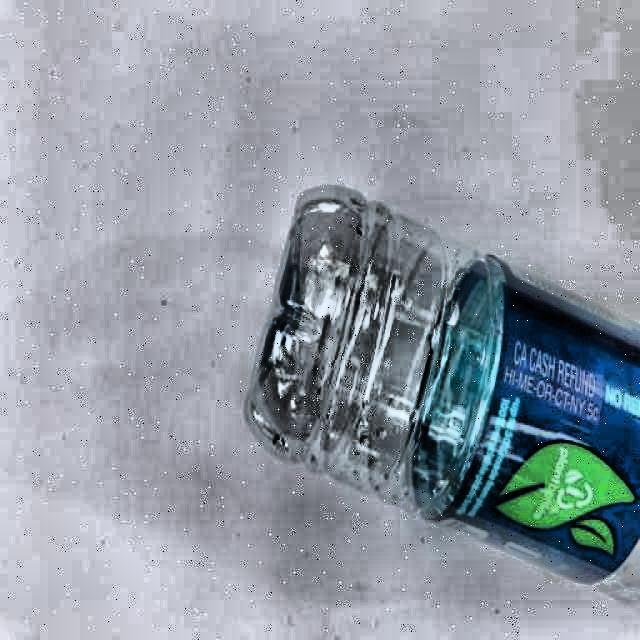plastic: (243, 185, 640, 593)
